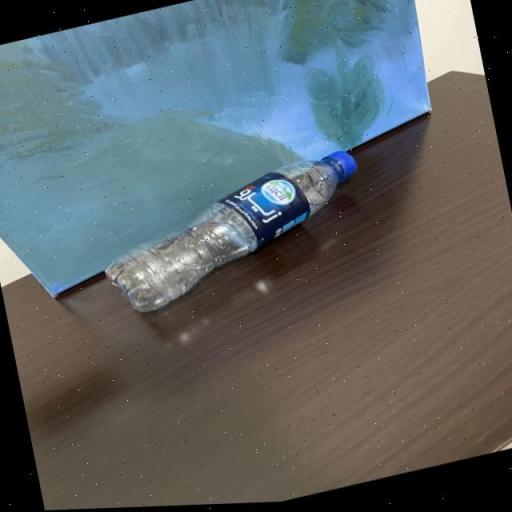plastic: (104, 154, 358, 316)
